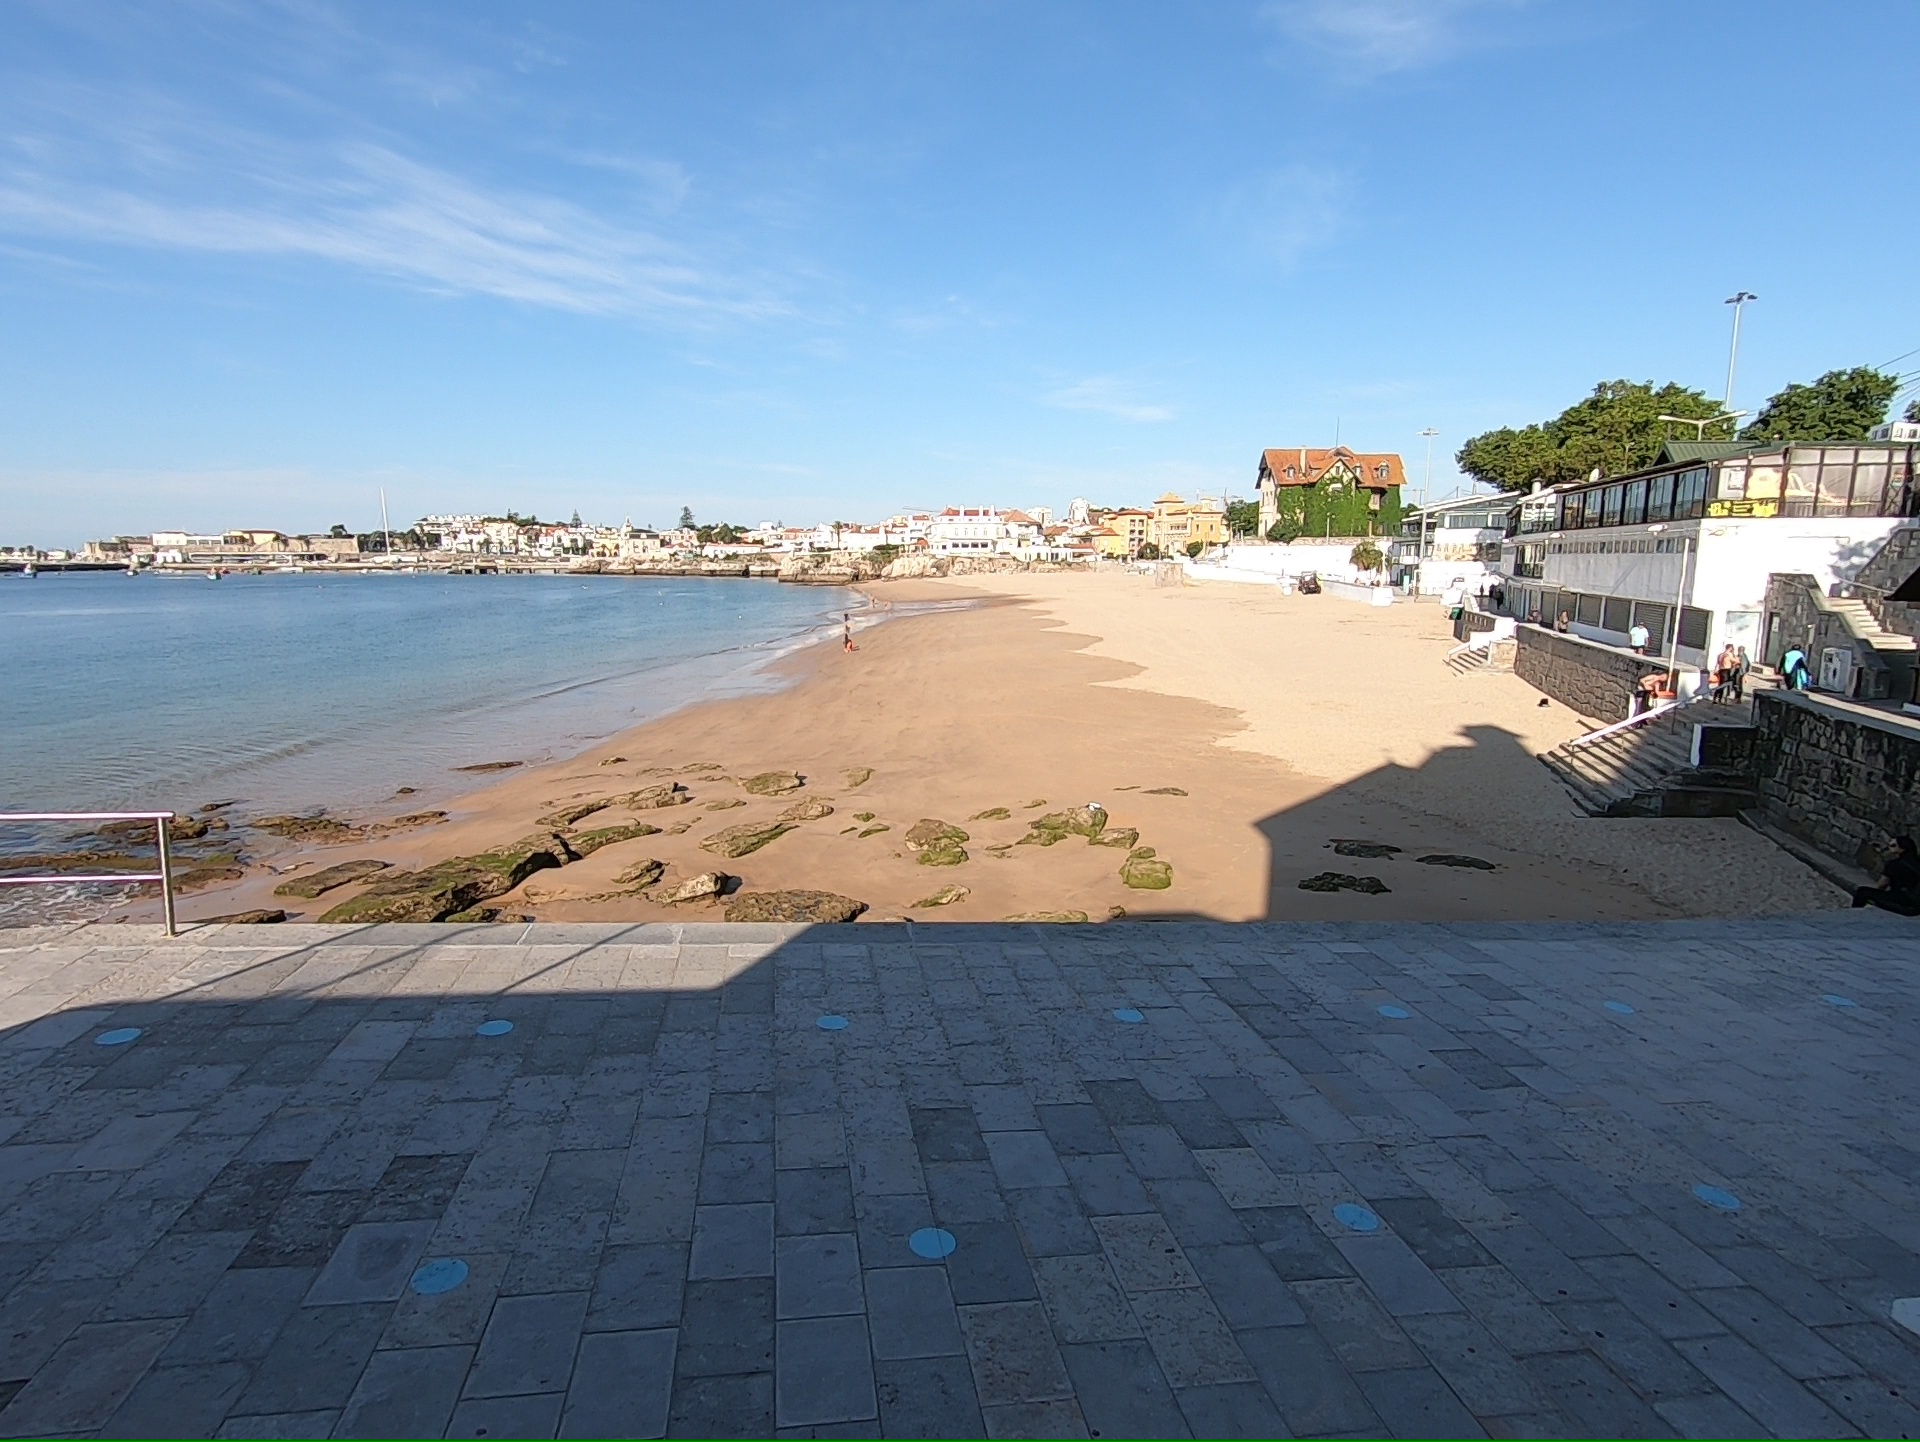person: (1778, 643, 1809, 688), (1635, 666, 1667, 705), (1716, 643, 1734, 698), (1734, 641, 1750, 697), (1629, 618, 1649, 652), (1557, 608, 1567, 632), (842, 632, 852, 654)
